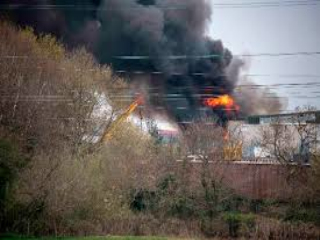fire: (206, 93, 240, 111)
smoke: (96, 8, 266, 136)
